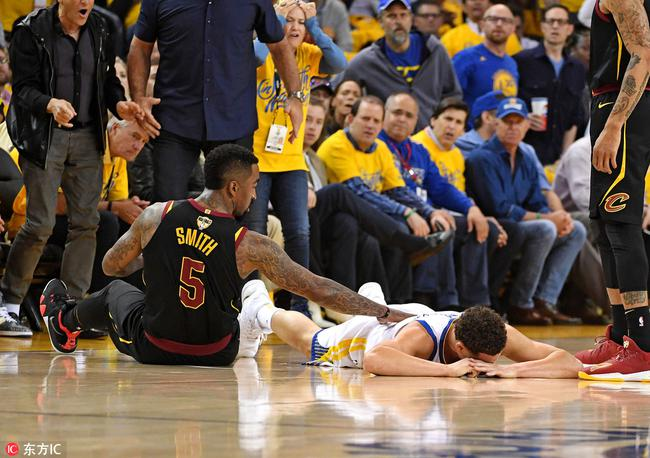10+: (3, 1, 649, 394)
down: (27, 142, 413, 368), (239, 271, 586, 381)
